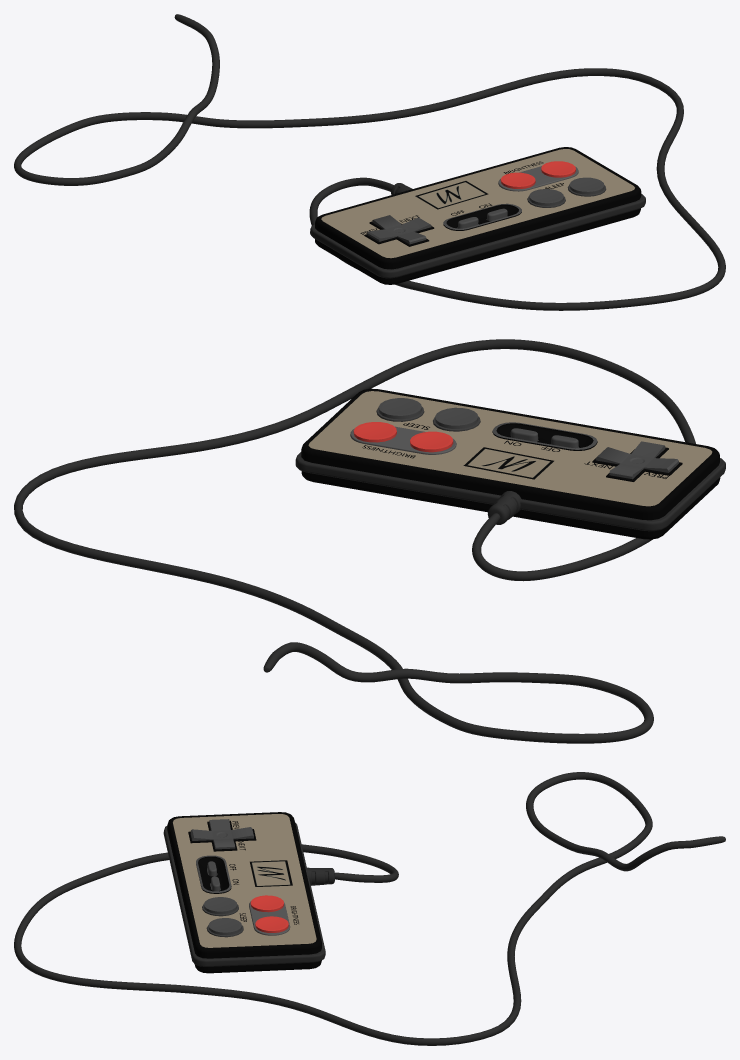
Rendered from Gamepad.gltf.
3 renders of one model, top to bottom at view 1: azimuth 30°, elevation 25°; view 2: azimuth 150°, elevation 25°; view 3: azimuth 270°, elevation 25°, orthographic. The views are drawn at different scales.
Visible parts, largest first — view 1: polySurface524_black_provoda_0, frontSurface, polySurface502_joystiks__black_plastik_0, polySurface503_lambert16_0, polySurface501_lambert10_0, sleep2, sleep1, brightness2, brightness1; view 2: polySurface524_black_provoda_0, frontSurface, polySurface502_joystiks__black_plastik_0, polySurface503_lambert16_0, polySurface501_lambert10_0, sleep2, sleep1, brightness2, brightness1, polySurface523_black_provoda_0, logo; view 3: polySurface524_black_provoda_0, frontSurface, polySurface502_joystiks__black_plastik_0, polySurface503_lambert16_0, polySurface501_lambert10_0, sleep1, sleep2, brightness2, brightness1, polySurface523_black_provoda_0.
Part boxes in pixels (x1,y1,x2,y2): polySurface524_black_provoda_0: (14, 14, 725, 310); frontSurface: (321, 149, 634, 258); polySurface502_joystiks__black_plastik_0: (315, 147, 641, 284); polySurface503_lambert16_0: (310, 194, 645, 278); polySurface501_lambert10_0: (498, 166, 578, 191); sleep2: (569, 177, 604, 194); sleep1: (529, 189, 563, 205); brightness2: (541, 161, 575, 177); brightness1: (500, 172, 535, 188); polySurface524_black_provoda_0: (14, 339, 695, 743); frontSurface: (308, 391, 712, 506); polySurface502_joystiks__black_plastik_0: (301, 388, 720, 539); polySurface503_lambert16_0: (295, 452, 725, 531); polySurface501_lambert10_0: (350, 426, 456, 454); sleep2: (378, 398, 421, 419); sleep1: (435, 407, 478, 428); brightness2: (353, 422, 396, 442); brightness1: (410, 431, 453, 452); polySurface523_black_provoda_0: (487, 491, 521, 524); logo: (463, 447, 553, 479); polySurface524_black_provoda_0: (14, 772, 725, 1045); frontSurface: (173, 814, 316, 947); polySurface502_joystiks__black_plastik_0: (167, 812, 321, 973); polySurface503_lambert16_0: (163, 822, 325, 966); polySurface501_lambert10_0: (249, 901, 290, 935); sleep1: (204, 897, 237, 914); sleep2: (208, 918, 241, 935); brightness2: (255, 916, 288, 932); brightness1: (250, 895, 283, 912); polySurface523_black_provoda_0: (305, 867, 334, 885).
Bounding box in the file's own units: 5.05 × 0.4536 × 5.62.
11 materials, 1 textured.
